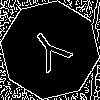Y: (25, 25, 79, 81)
